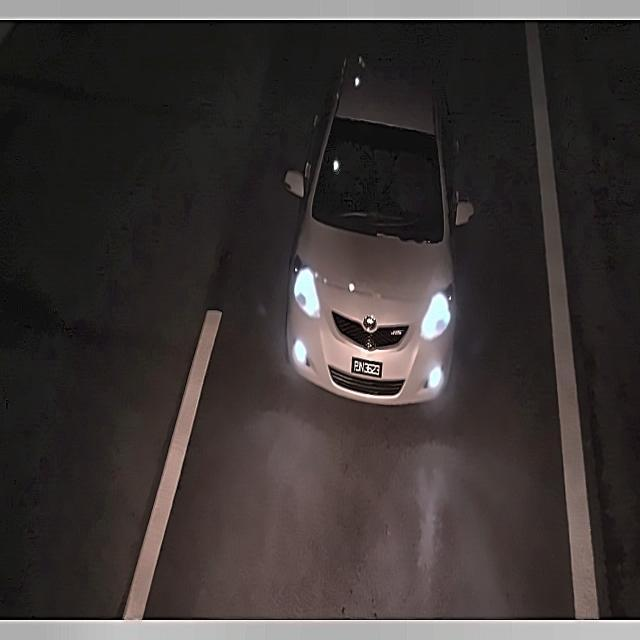car: (348, 352, 384, 383)
